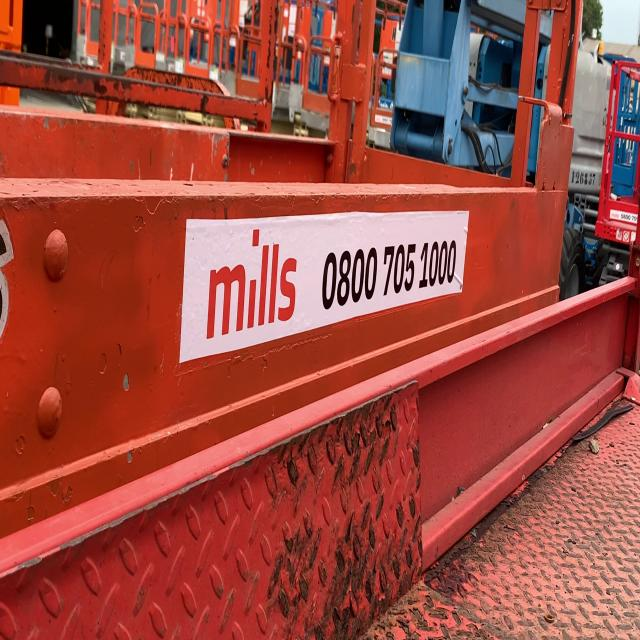Adesivo Longo: (178, 206, 472, 368)
